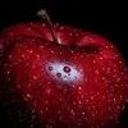apple: (1, 12, 128, 128)
